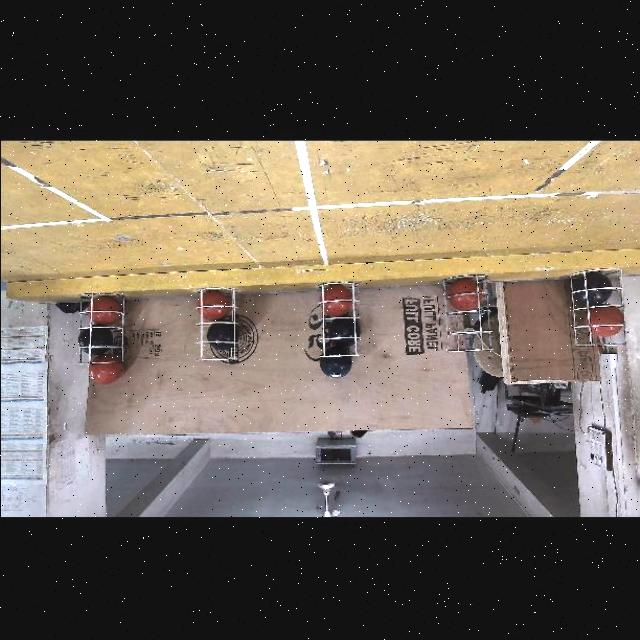P: (574, 272, 612, 304), (318, 346, 351, 379), (328, 316, 360, 348), (78, 324, 112, 354), (207, 320, 237, 350)
R: (584, 304, 622, 336), (447, 278, 481, 310), (88, 354, 122, 385), (321, 284, 352, 316), (196, 291, 228, 321), (88, 298, 122, 324)
S: (564, 262, 630, 350), (440, 270, 496, 354), (314, 278, 362, 367), (75, 287, 127, 368), (192, 282, 238, 364)
